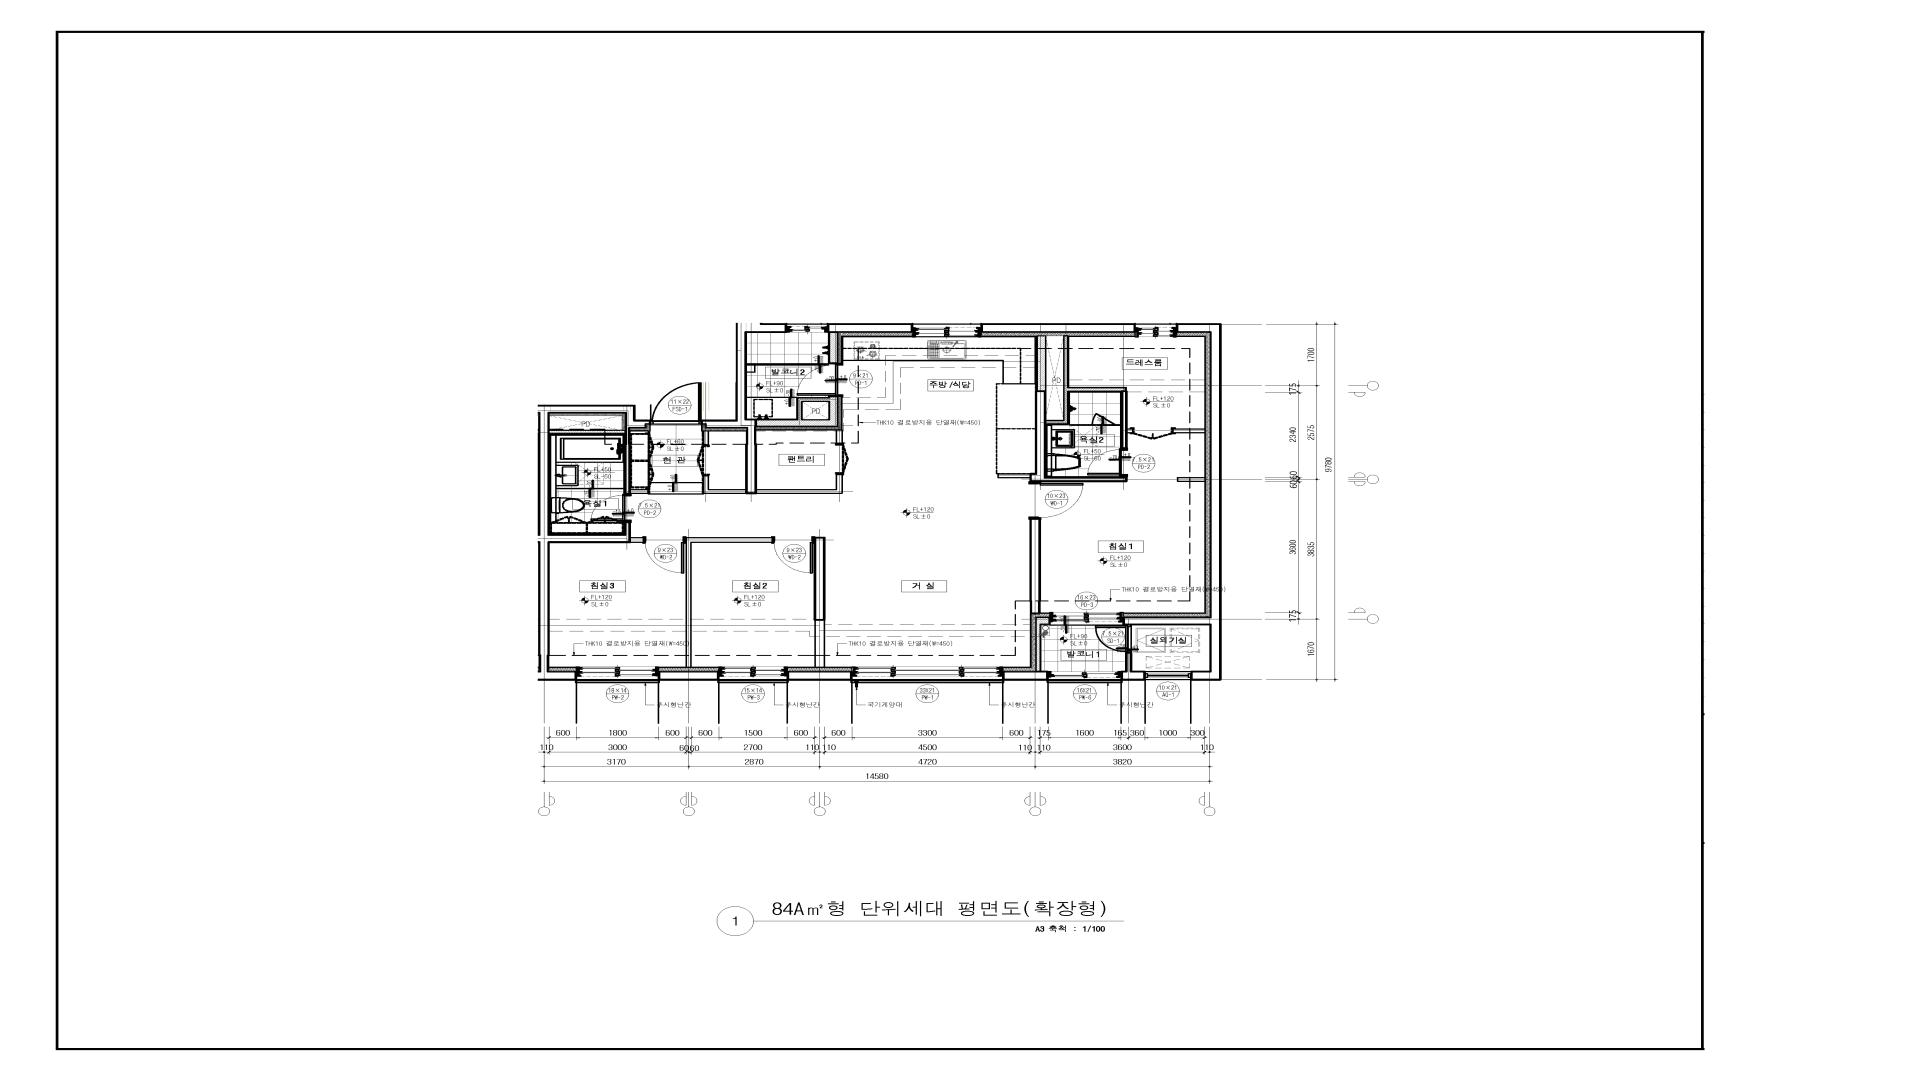background: (1, 0, 1920, 1077)
door: (650, 382, 702, 425), (1029, 483, 1084, 520), (771, 535, 814, 574), (644, 537, 686, 574), (796, 364, 844, 396), (1087, 448, 1129, 476), (591, 495, 632, 522), (1095, 626, 1131, 651), (1133, 427, 1174, 439), (835, 443, 849, 475), (1091, 413, 1116, 426)
wall: (1124, 323, 1222, 680), (538, 405, 650, 680), (997, 335, 1127, 483), (702, 323, 787, 495), (686, 537, 771, 669), (757, 397, 828, 427), (757, 475, 843, 495), (982, 323, 1135, 334), (814, 537, 825, 669), (1030, 520, 1040, 615), (827, 323, 913, 332), (1035, 617, 1050, 671), (703, 477, 745, 495), (1121, 653, 1146, 680), (787, 671, 852, 680), (658, 671, 717, 680), (1004, 671, 1048, 680), (550, 430, 625, 435), (828, 396, 839, 427), (828, 332, 839, 364), (1174, 429, 1205, 434), (1176, 477, 1205, 483), (702, 431, 709, 446), (836, 430, 843, 443), (632, 537, 642, 543), (632, 489, 649, 493), (1127, 429, 1133, 434)
window: (852, 666, 1004, 683), (576, 666, 658, 683), (717, 666, 787, 683), (913, 323, 982, 338), (1050, 612, 1124, 625), (1048, 671, 1121, 683), (1135, 323, 1176, 338), (1146, 671, 1191, 680), (787, 323, 827, 332)
